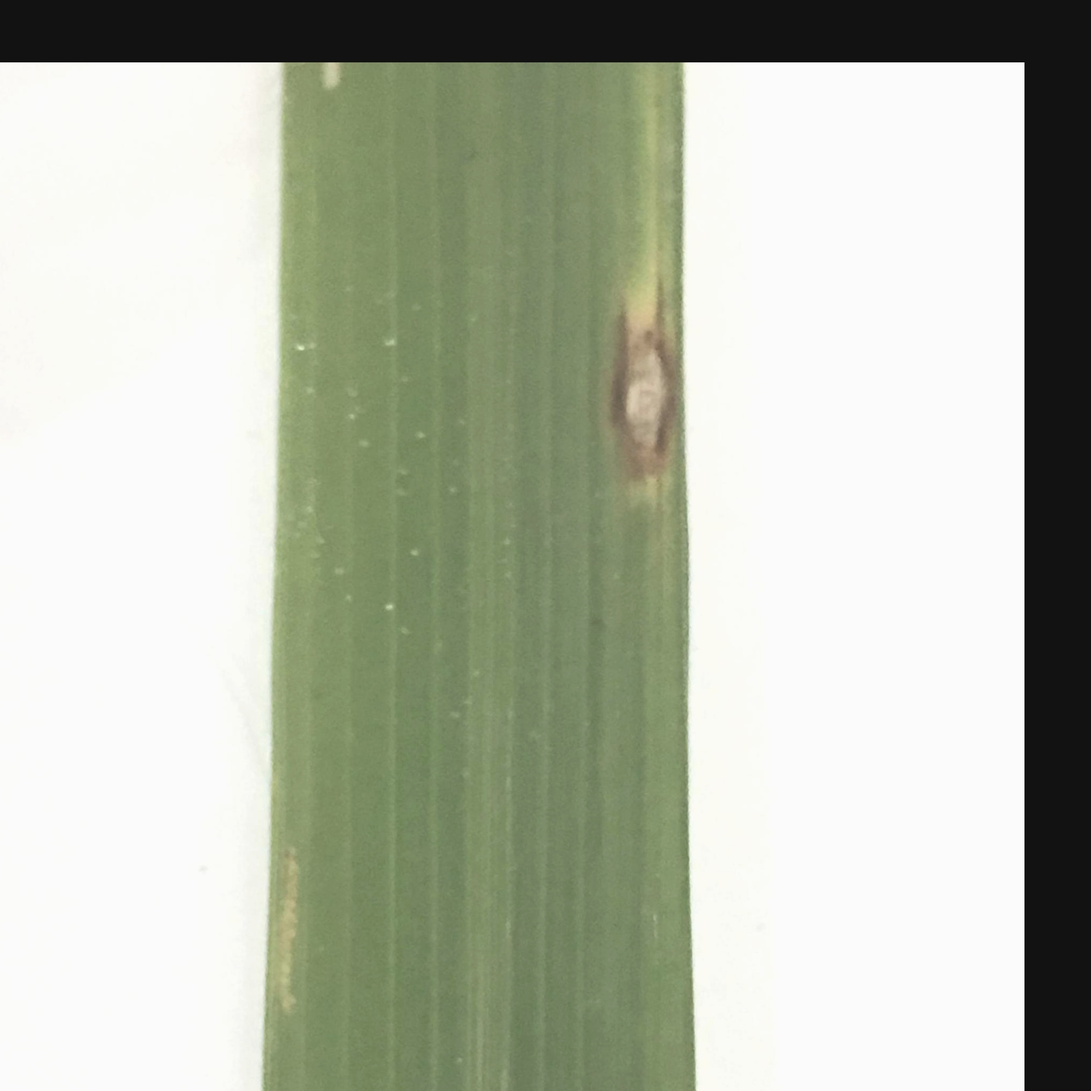Brown_Spot: (571, 221, 726, 534)
